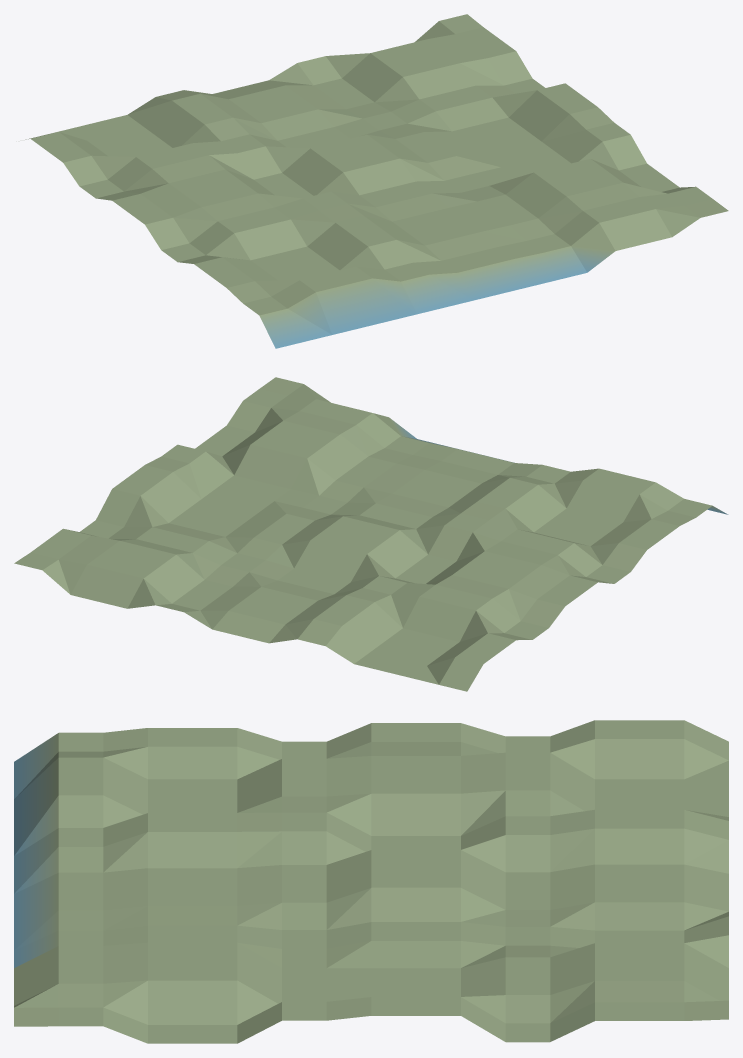
3 views of the same model, one above another, from view 1: azimuth 30°, elevation 25°; view 2: azimuth 150°, elevation 25°; view 3: azimuth 270°, elevation 25° (orthographic). The views are drawn at different scales.
Bounding box in the file's own units: 32 × 2.38 × 32.
